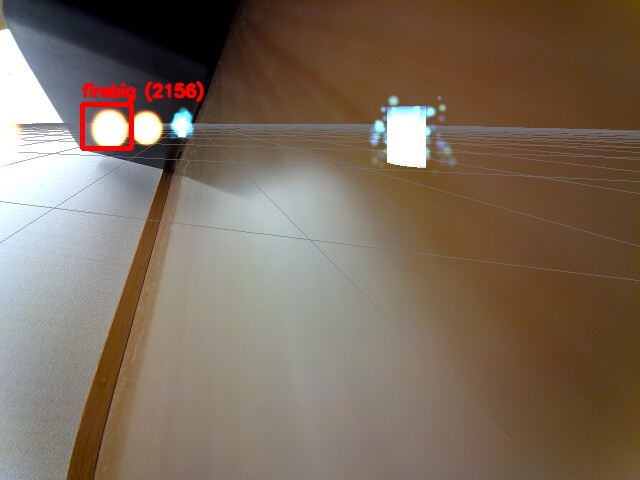firebig: (82, 104, 131, 148)
